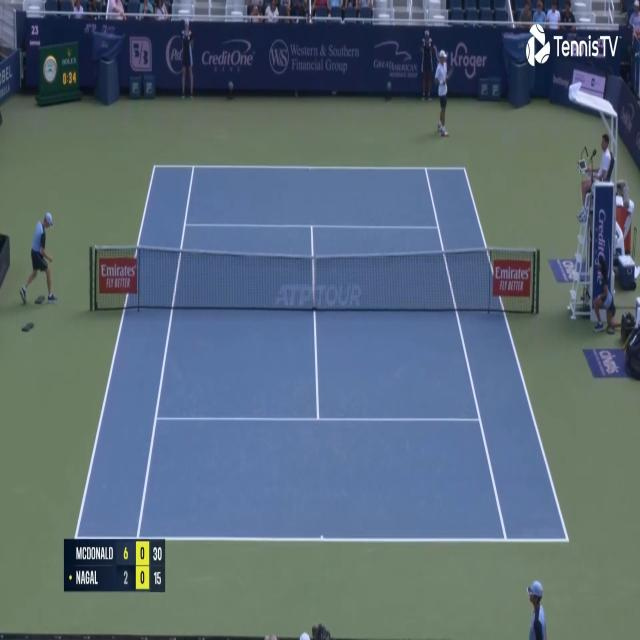tennis-player: (434, 49, 452, 140)
